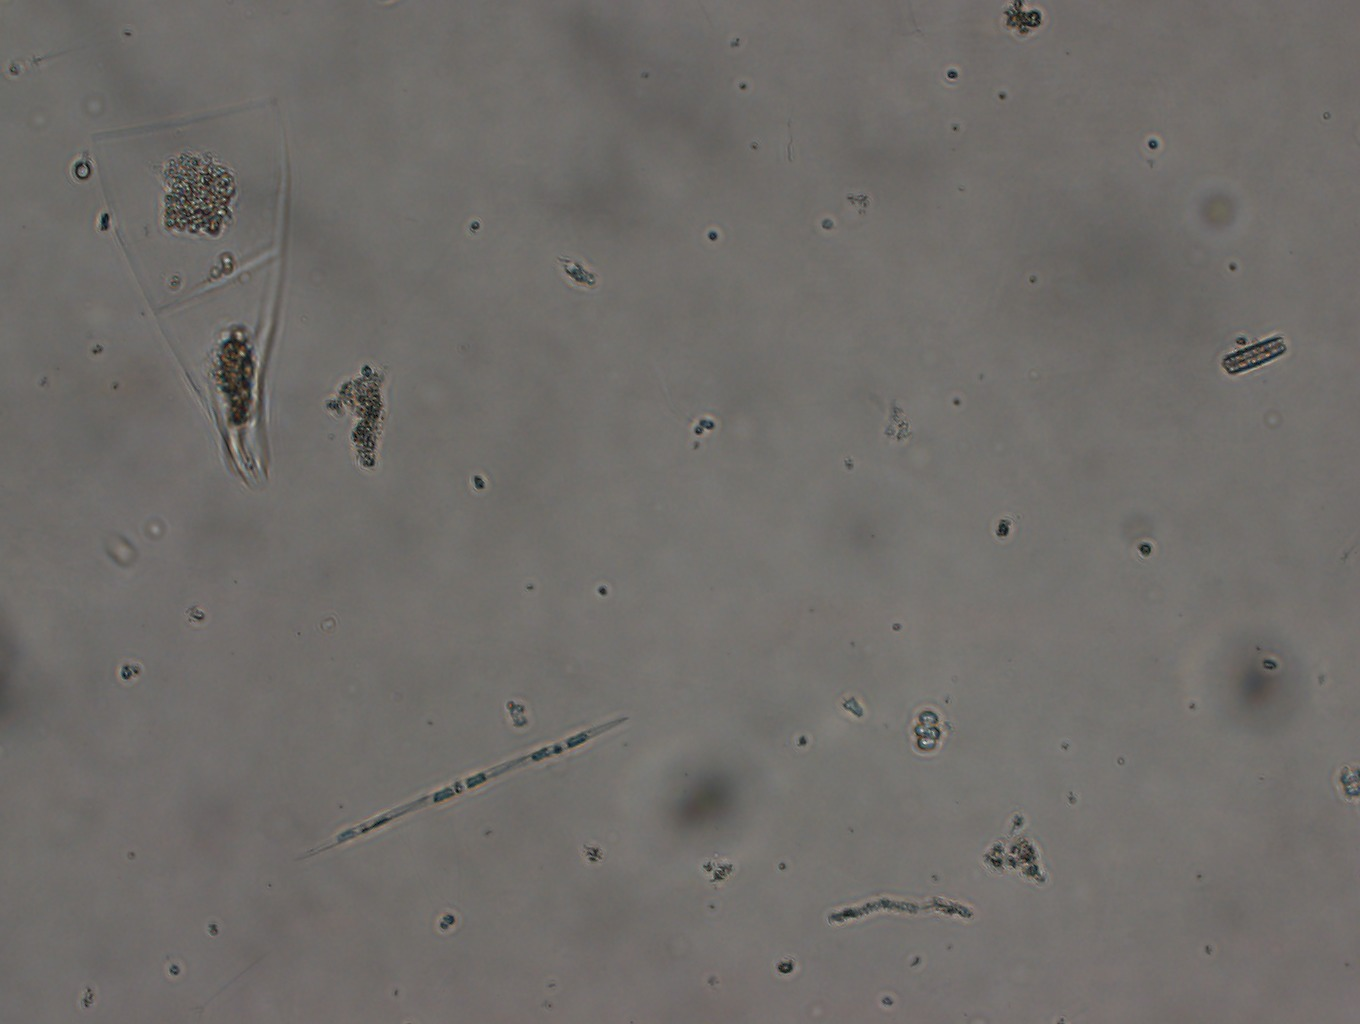helicotheca: (91, 94, 286, 486)
